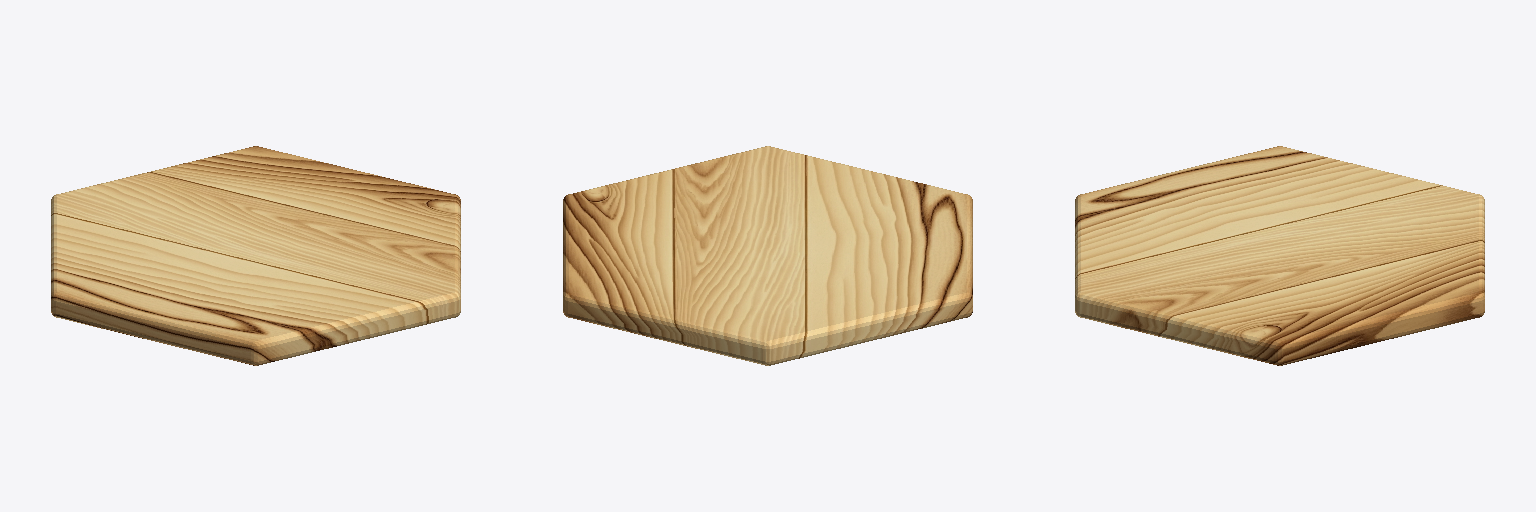
The picture shows the model from 3 angles: view 1: azimuth 30°, elevation 25°; view 2: azimuth 150°, elevation 25°; view 3: azimuth 270°, elevation 25°; orthographic projection.
Visible parts, largest first — view 1: Cylinder; view 2: Cylinder; view 3: Cylinder.
Part boxes in pixels (left/top/right/bottom): Cylinder: left=51, top=146, right=460, bottom=365; Cylinder: left=563, top=146, right=972, bottom=365; Cylinder: left=1075, top=146, right=1484, bottom=365.
Bounding box in the file's own units: 6.92 × 0.4 × 6.04.
1 materials, 1 textured.